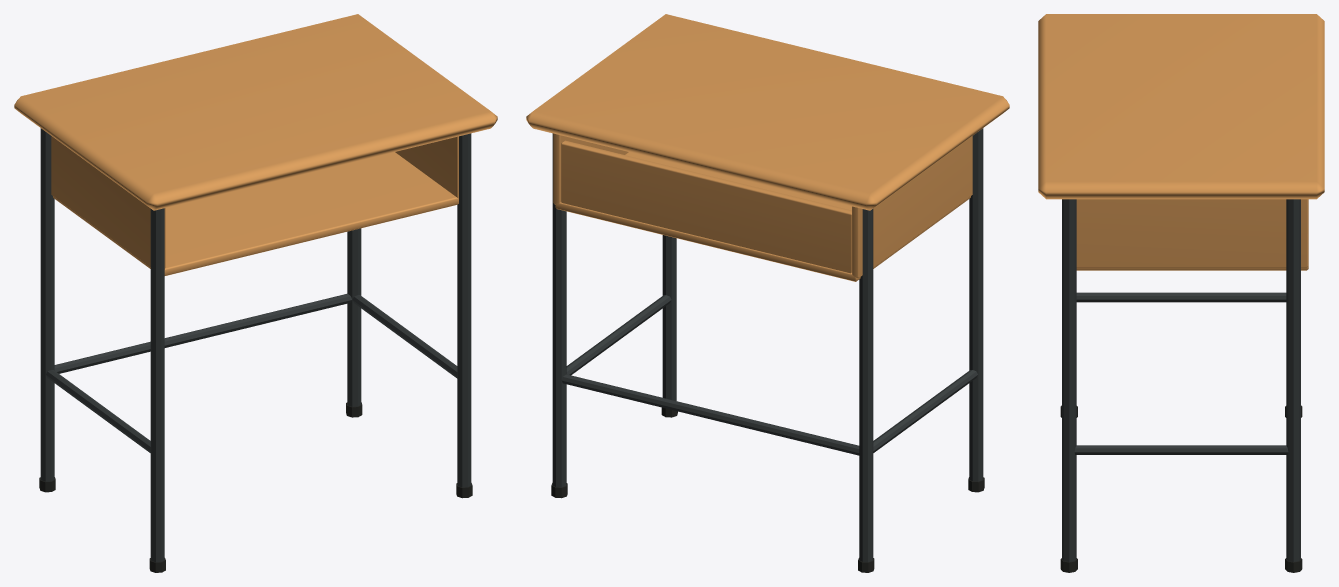
The model's file is StudentDesk.fbx.
3 views of the same model, side by side, from view 1: azimuth 30°, elevation 25°; view 2: azimuth 150°, elevation 25°; view 3: azimuth 270°, elevation 25° (orthographic).
Parts seen in each view (by area): view 1: Honey beech, Graphite enamel, Rubber; view 2: Honey beech, Graphite enamel, Rubber; view 3: Honey beech, Graphite enamel, Rubber.
Part boxes in pixels (box(x1,y1,x2,y2)): Honey beech: box(14, 14, 497, 275); Graphite enamel: box(40, 128, 471, 562); Rubber: box(39, 402, 472, 572); Honey beech: box(526, 14, 1009, 281); Graphite enamel: box(552, 128, 983, 562); Rubber: box(551, 407, 984, 572); Honey beech: box(1038, 14, 1324, 270); Graphite enamel: box(1062, 199, 1300, 561); Rubber: box(1060, 405, 1302, 572).
Bounding box in the file's own units: 72 × 76.2 × 50.
